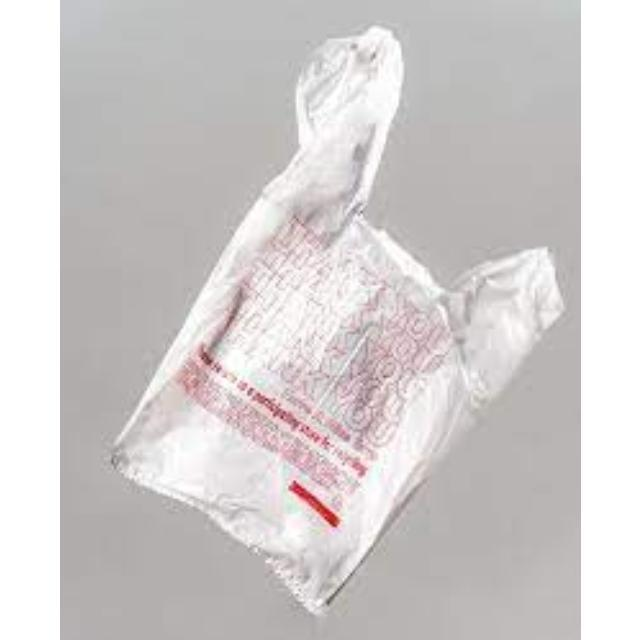Bolsa-de-plastico: (106, 26, 563, 619)
